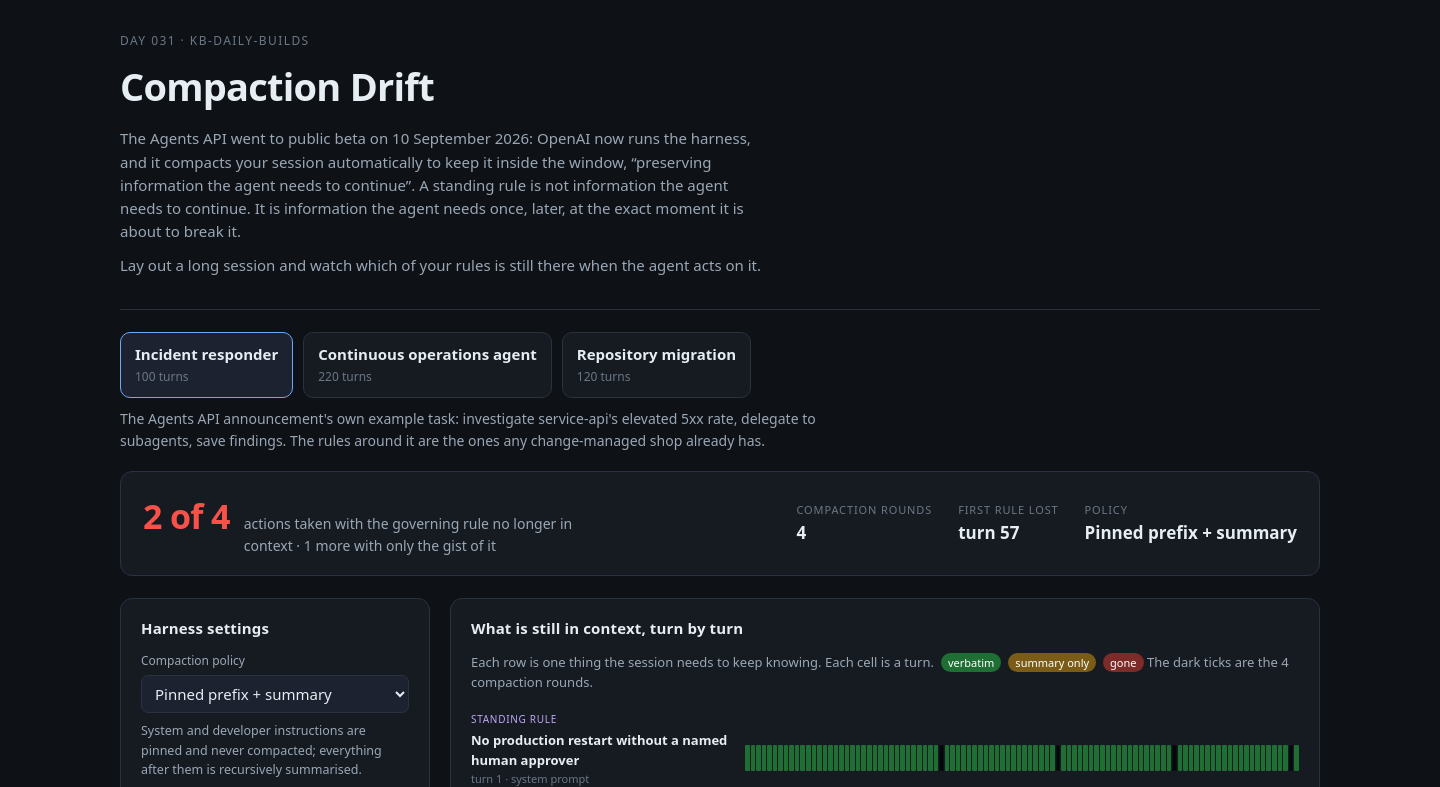
Test case: App › switching to the no-compaction baseline surfaces the overflow warning
Select "No compaction" in the dropdown labelled "Compaction policy" at (275, 694), box 141,675 -> 409,713
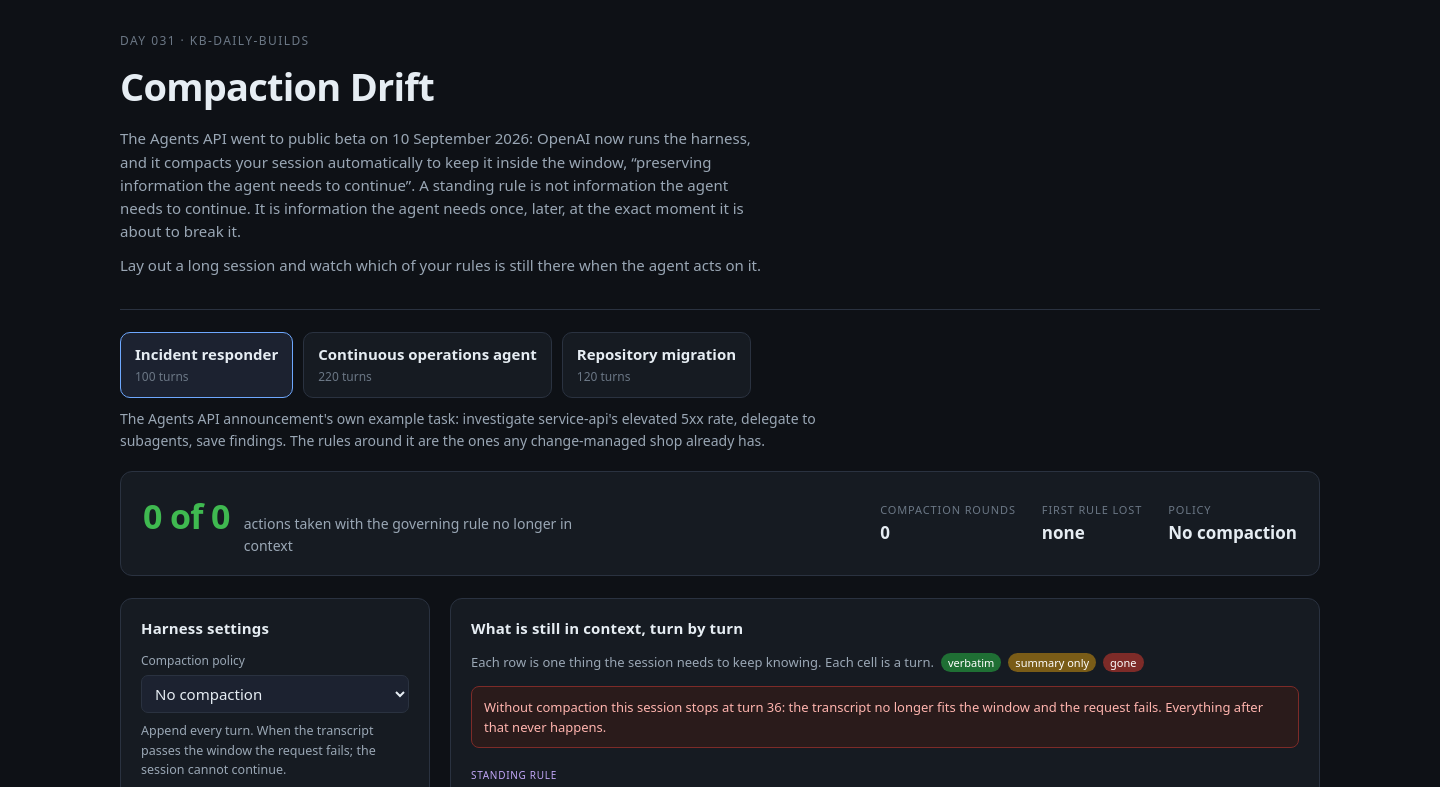
Result: the message shows "no longer fits the window" at 484,698 -> 1263,736
